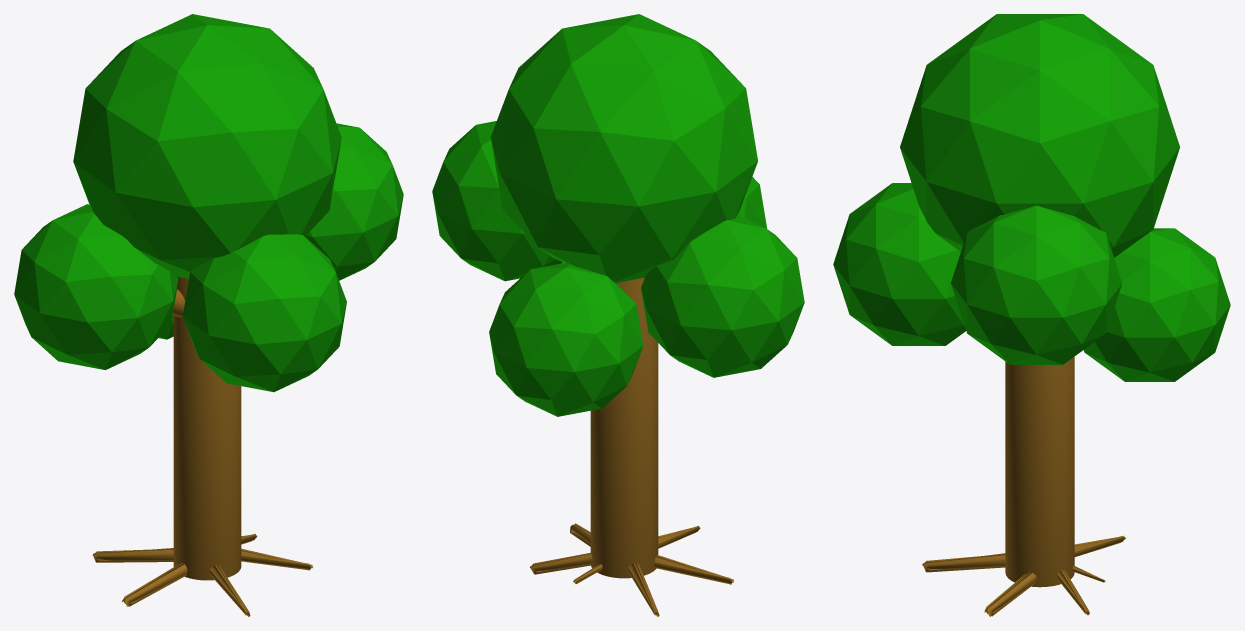
Rendered from Ağaç 4.fbx.
The picture shows the model from 3 angles, left to right: view 1: azimuth 30°, elevation 25°; view 2: azimuth 150°, elevation 25°; view 3: azimuth 270°, elevation 25°; orthographic projection. The views are drawn at different scales.
Parts seen in each view (by area): view 1: Icosphere, Icosphere.001, Icosphere.004, GÖVDE, Icosphere.003, KÖK.005, KÖK.004, KÖK.003, KÖK.002; view 2: Icosphere, Icosphere.004, Icosphere.002, GÖVDE, Icosphere.003, Icosphere.001, KÖK.004, KÖK, KÖK.005; view 3: Icosphere, Icosphere.003, Icosphere.001, Icosphere.002, GÖVDE, KÖK.002, KÖK.003.
Boxes of the visible parts, x1,y1,x2,y2 form: Icosphere: (73, 14, 341, 278); Icosphere.001: (182, 234, 346, 392); Icosphere.004: (14, 204, 178, 369); GÖVDE: (173, 277, 241, 580); Icosphere.003: (305, 123, 403, 280); KÖK.005: (92, 548, 173, 562); KÖK.004: (122, 563, 187, 606); KÖK.003: (241, 548, 313, 570); KÖK.002: (209, 565, 250, 616); Icosphere: (490, 14, 757, 282); Icosphere.004: (641, 215, 804, 377); Icosphere.002: (489, 262, 643, 416); GÖVDE: (590, 277, 658, 578); Icosphere.003: (432, 121, 562, 281); Icosphere.001: (737, 177, 767, 228); KÖK.004: (654, 555, 733, 584); KÖK: (530, 552, 592, 574); KÖK.005: (628, 563, 659, 616); Icosphere: (900, 14, 1179, 257); Icosphere.003: (951, 205, 1122, 364); Icosphere.001: (833, 183, 966, 345); Icosphere.002: (1083, 228, 1230, 381); GÖVDE: (1005, 356, 1074, 587); KÖK.002: (922, 553, 1005, 572); KÖK.003: (984, 572, 1036, 616).
Bounding box in the file's own units: 183 × 270 × 173.
